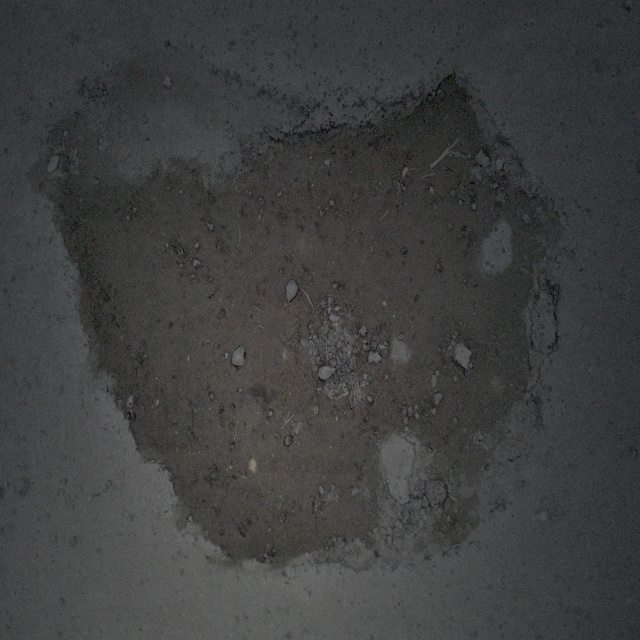pothole: (30, 29, 563, 572)
